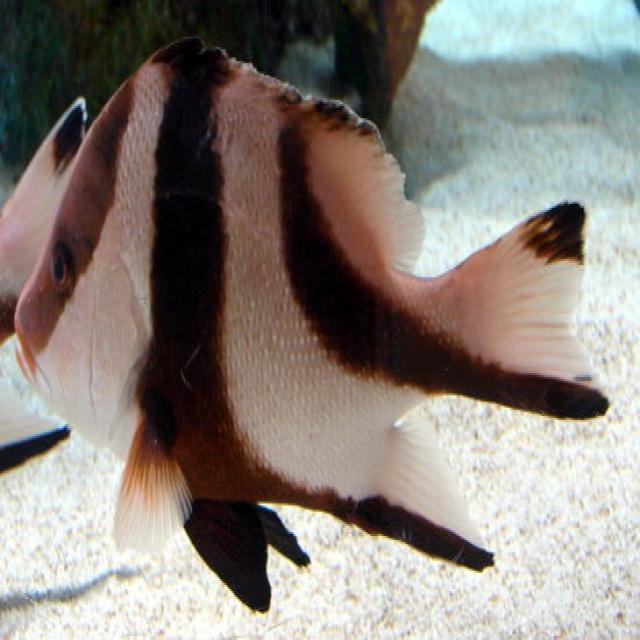ikan: (0, 32, 610, 614)
